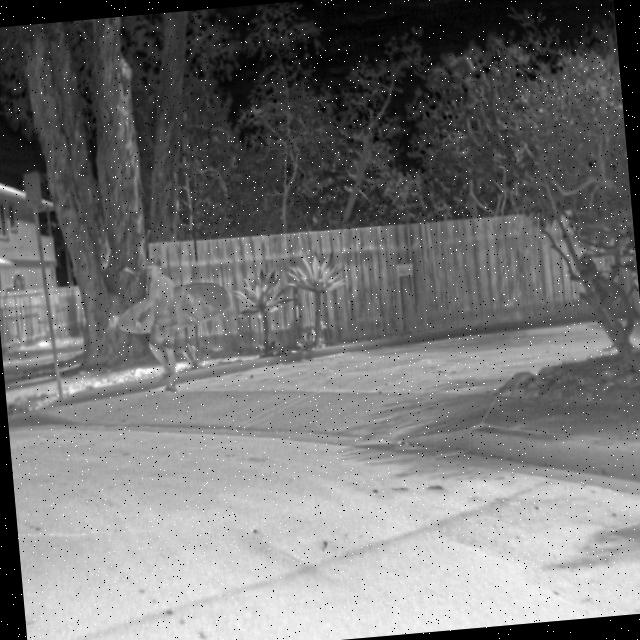Pedestrian: (141, 255, 182, 394)
